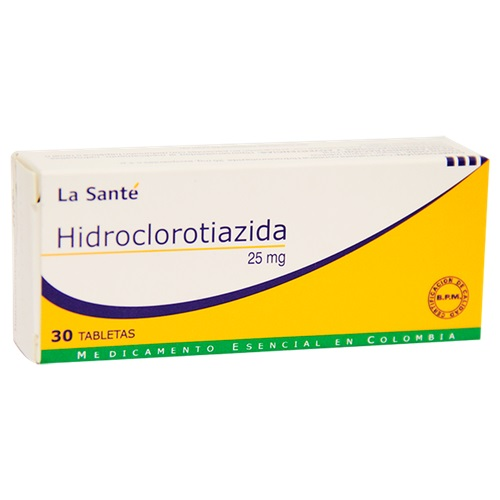LaSante: (43, 167, 478, 362)
